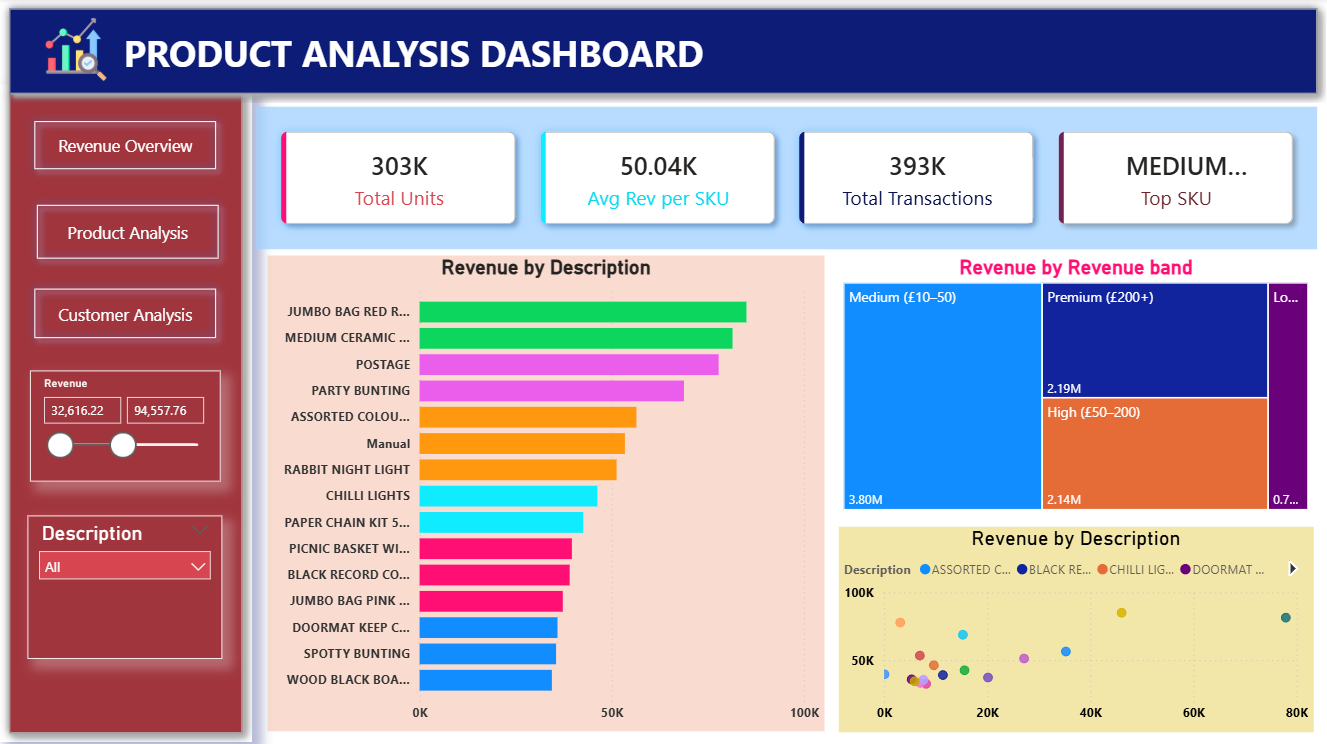

What the dashboard file says about the page in this screenshot:
{"tool":"powerbi","page":{"name":"Page 2","canvas":[1280,720],"ordinal":1},"visuals":[{"type":"shape","box":[0,83.7,242.9,635.3],"z":0},{"type":"shape","box":[0,1.4,1280.3,100.2],"z":1000},{"type":"barChart","title":"Revenue by Description","fields":{"Category":["Q3_Products.Description"],"Y":["Sum(Q3_Products.Revenue)"]},"box":[258.2,249,537.9,459.6],"z":2000},{"type":"scatterChart","title":" Revenue by Description","fields":{"X":["Sum(Q3_Products.Units_Sold)"],"Y":["Sum(Q3_Products.Revenue)"],"Series":["Q3_Products.Description"]},"box":[810,510.3,458,198.3],"z":3000},{"type":"treemap","title":"Revenue by Revenue band","fields":{"Values":["Sum(Q6_Revenue_Bands.Total_Revenue)"],"Group":["Q6_Revenue_Bands.Revenue_Band"]},"box":[810,249,458,250.5],"z":4000},{"type":"cardVisual","fields":{"Data":["Q1_Monthly.Total Units","Q1_Monthly.Avg Rev per SKU","Q1_Monthly.Total Transactions","Q1_Monthly.Top SKU"]},"box":[242.8,99.9,1037.5,147.6],"z":5000},{"type":"shape","box":[100.2,24.7,598.3,56.3],"z":6000},{"type":"shape","box":[24.7,109.8,193.5,64.5],"z":7000},{"type":"shape","box":[26.1,190.7,193.5,70],"z":8000},{"type":"shape","box":[24.7,271.7,193.5,65.9],"z":9000},{"type":"slicer","fields":{"Values":["Q3_Products.Revenue"]},"box":[28.8,359.5,183.9,107],"z":10000},{"type":"slicer","fields":{"Values":["Q3_Products.Description"]},"box":[26.1,499.5,188,138.6],"z":11000},{"type":"image","box":[30.2,17.8,86.4,63.1],"z":11001}]}

Visuals, with their boxes in screenshot pixels (x1, y1, x2, y2), scaled from the page's 1280x720 canvas onto the 1327x744 screenshot:
shape: [0, 86, 252, 743]
shape: [0, 1, 1326, 105]
"Revenue by Description" barChart: [268, 257, 825, 732]
" Revenue by Description" scatterChart: [840, 527, 1315, 732]
"Revenue by Revenue band" treemap: [840, 257, 1315, 516]
cardVisual - Q1_Monthly.Total Units x Q1_Monthly.Avg Rev per SKU: [252, 103, 1326, 256]
shape: [104, 26, 724, 84]
shape: [26, 113, 226, 180]
shape: [27, 197, 228, 269]
shape: [26, 281, 226, 349]
slicer - Q3_Products.Revenue: [30, 371, 221, 482]
slicer - Q3_Products.Description: [27, 516, 222, 659]
image: [31, 18, 121, 84]
